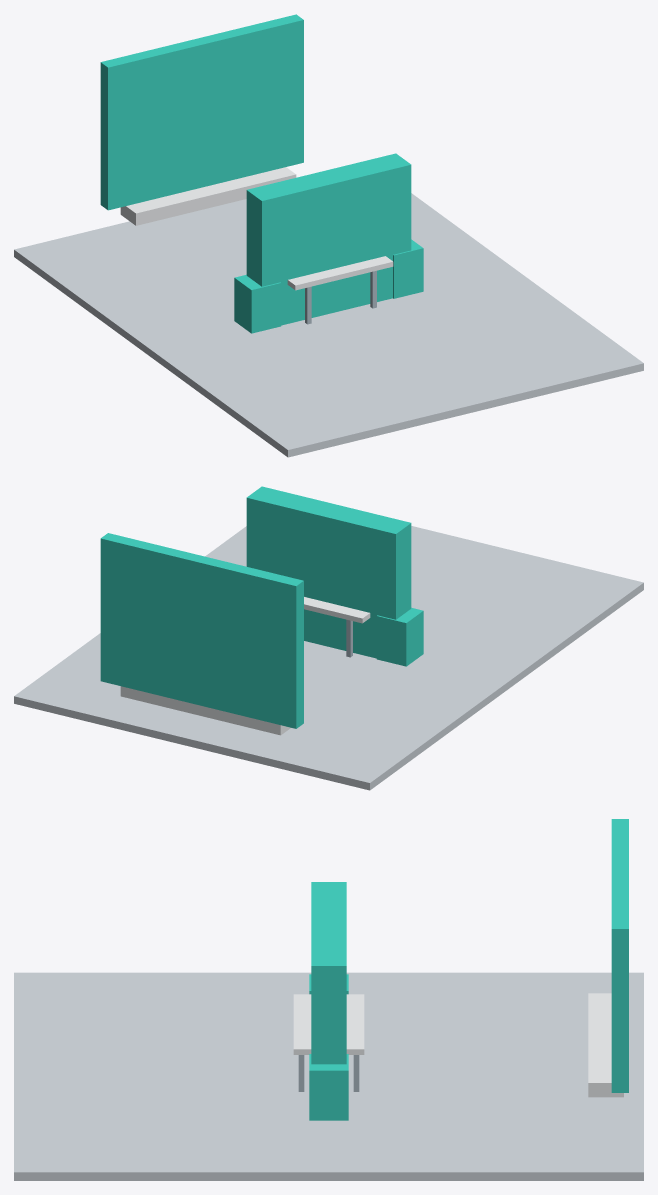
3 views of the same model, one above another, from view 1: azimuth 30°, elevation 25°; view 2: azimuth 150°, elevation 25°; view 3: azimuth 270°, elevation 25° (orthographic). The views are drawn at different scales.
Parts seen in each view (by area): view 1: Exhibition Booth Concept; view 2: Exhibition Booth Concept; view 3: Exhibition Booth Concept.
Boxes of the visible parts, box(x1,y1,x2,y2) form: Exhibition Booth Concept: box(14, 14, 643, 457); Exhibition Booth Concept: box(14, 486, 643, 790); Exhibition Booth Concept: box(14, 819, 643, 1180).
Bounding box in the file's own units: 6 × 2.9 × 8.
